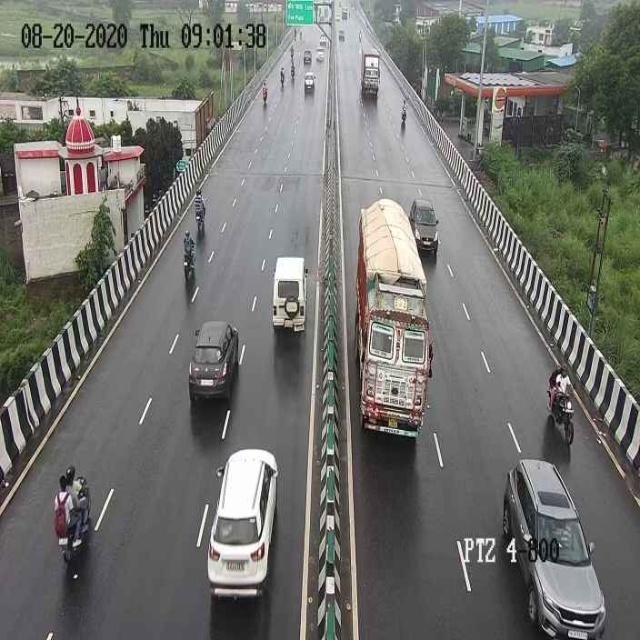car: (501, 444, 607, 636), (203, 439, 280, 612), (183, 315, 241, 412), (269, 248, 307, 344), (410, 198, 440, 256)
